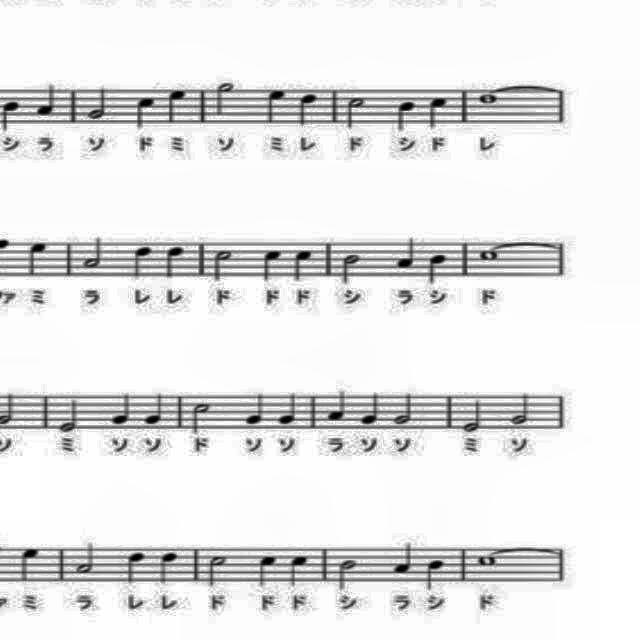Full-note: (477, 552, 501, 572), (474, 90, 502, 106), (478, 248, 500, 264)
Half-note: (390, 384, 418, 432), (76, 230, 108, 270), (212, 76, 238, 124), (459, 395, 488, 437), (342, 90, 370, 130), (56, 394, 84, 434), (335, 556, 363, 596), (86, 82, 110, 124), (74, 537, 98, 579), (510, 385, 534, 427), (210, 244, 234, 284), (337, 250, 363, 286), (190, 400, 214, 436), (206, 554, 230, 590)
Quarter-note: (12, 540, 44, 584), (387, 536, 417, 580), (423, 87, 451, 133), (293, 88, 321, 132), (24, 239, 52, 281), (156, 542, 180, 590), (33, 81, 63, 119), (140, 386, 168, 426), (130, 240, 158, 280), (274, 387, 302, 427), (125, 548, 153, 588), (132, 95, 160, 134), (358, 384, 382, 428), (264, 86, 288, 130), (258, 241, 282, 285), (288, 548, 314, 588), (423, 248, 449, 288), (241, 391, 267, 431), (106, 389, 134, 426), (162, 240, 186, 282), (396, 232, 420, 274), (257, 547, 281, 589), (422, 555, 446, 597), (165, 86, 188, 128), (395, 95, 419, 135), (325, 388, 349, 428), (293, 241, 315, 283), (1, 98, 23, 134)
